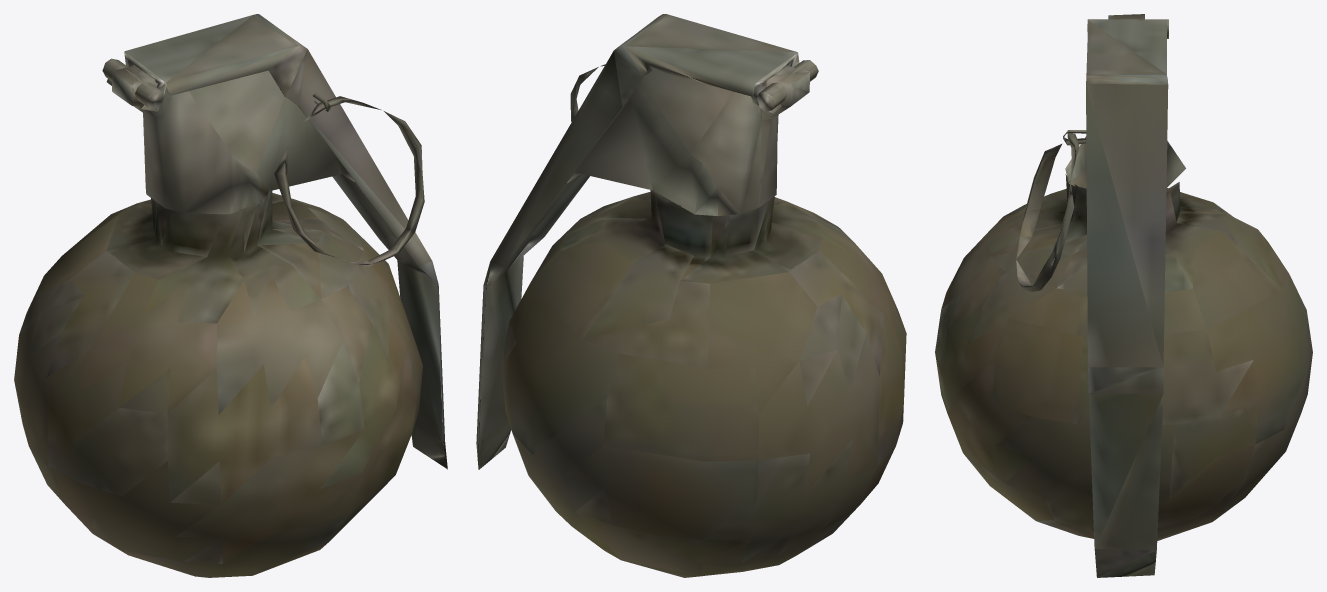
Rendered from grenade.glb.
The picture shows the model from 3 angles, left to right: view 1: azimuth 30°, elevation 25°; view 2: azimuth 150°, elevation 25°; view 3: azimuth 270°, elevation 25°; orthographic projection. The views are drawn at different scales.
Visible parts, largest first — view 1: Object_6; view 2: Object_6; view 3: Object_6.
Boxes of the visible parts, x1,y1,x2,y2 form: Object_6: (14,14,447,577); Object_6: (476,14,906,577); Object_6: (935,14,1312,577).
Bounding box in the file's own units: 0.1018 × 0.13 × 0.0927.
1 material, 1 textured.
